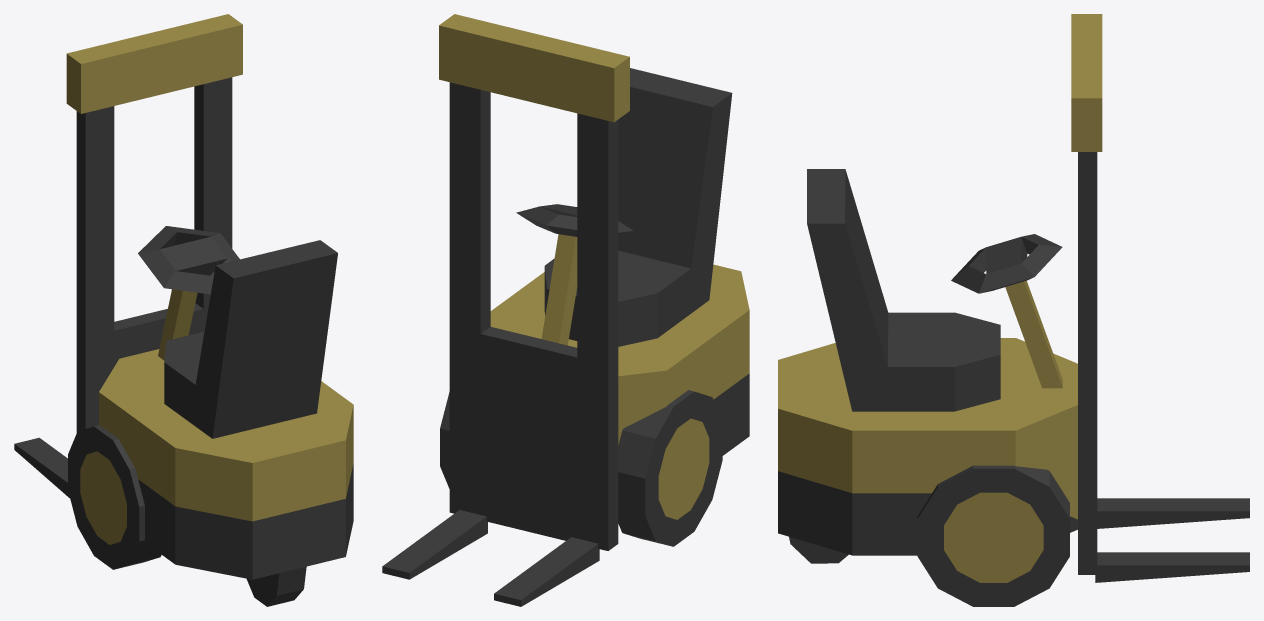
Rendered from forklift.obj.
The picture shows the model from 3 angles, left to right: view 1: azimuth 30°, elevation 25°; view 2: azimuth 150°, elevation 25°; view 3: azimuth 270°, elevation 25°; orthographic projection. The views are drawn at different scales.
Visible parts, largest first — view 1: cylinder1_Shape_IndexedFaceSet, Scene_Root_Shape_IndexedFaceSet; view 2: cylinder1_Shape_IndexedFaceSet, Scene_Root_Shape_IndexedFaceSet; view 3: cylinder1_Shape_IndexedFaceSet, Scene_Root_Shape_IndexedFaceSet.
Boxes of the visible parts, x1,y1,x2,y2 form: cylinder1_Shape_IndexedFaceSet: (14,77,353,606); Scene_Root_Shape_IndexedFaceSet: (66,14,353,544); cylinder1_Shape_IndexedFaceSet: (382,68,749,606); Scene_Root_Shape_IndexedFaceSet: (439,14,749,519); cylinder1_Shape_IndexedFaceSet: (778,152,1249,606); Scene_Root_Shape_IndexedFaceSet: (778,14,1102,582).
Bounding box in the file's own units: 10.04 × 23.73 × 20.23.
